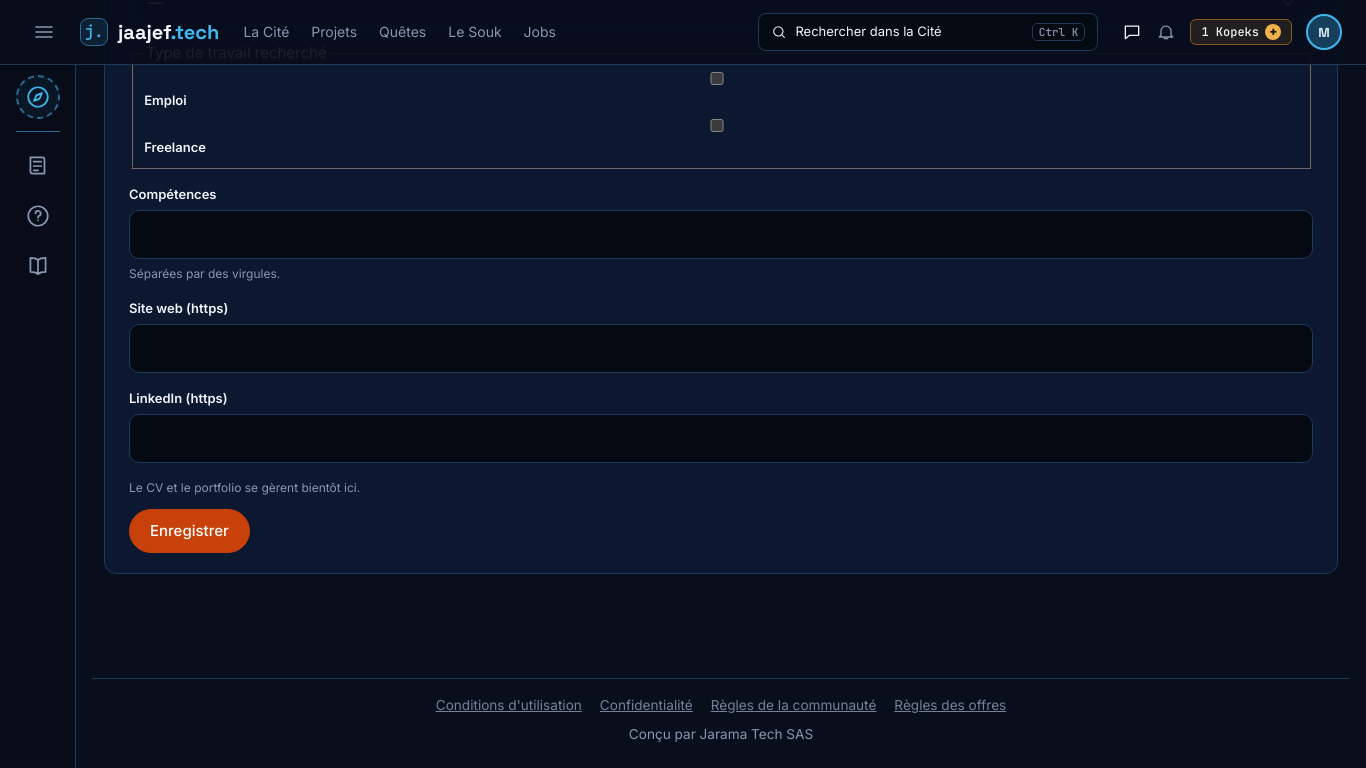
Application file › shows a refusal in French
This screenshot has width=1366, height=768.
(page scrolled)
Click the button "Enregistrer" at (189, 531), box [129,509,250,553]
(page scrolled)
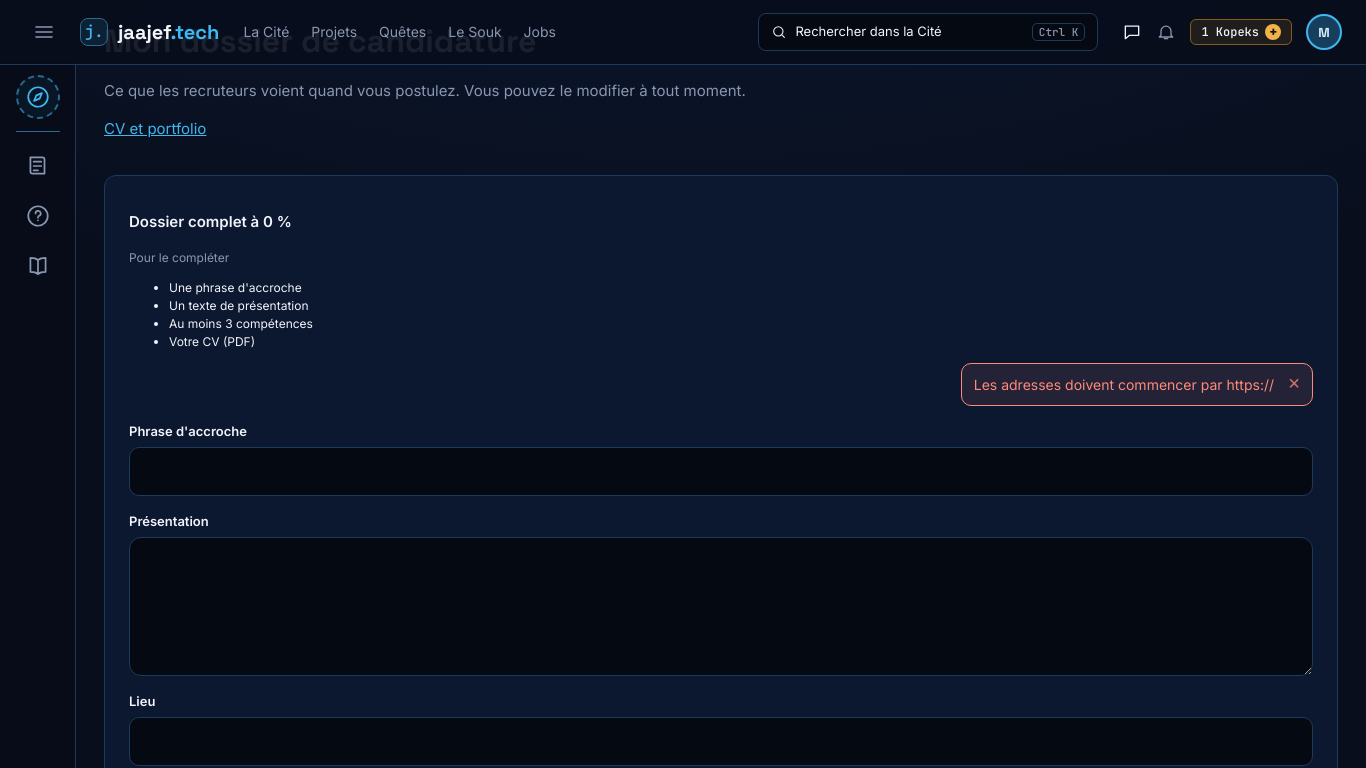
Expected: the message shows "https://", [974,376,1274,392]
